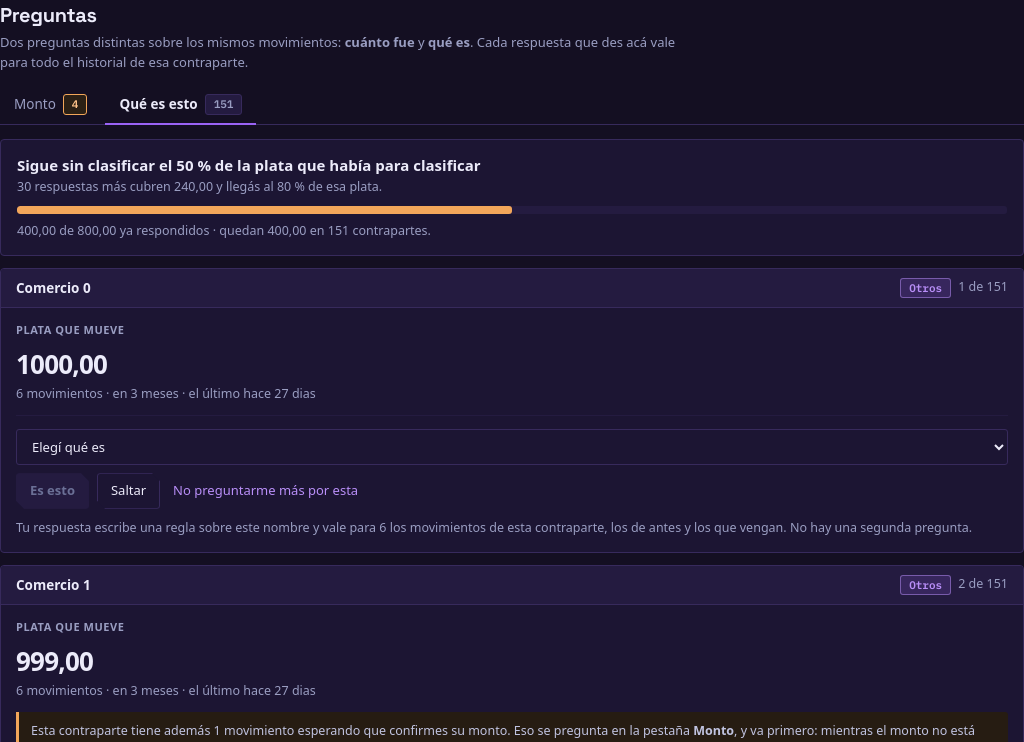
Test case: pestaña 'Qué es esto' — 151 grupos por plata › el rechazo del motor se muestra con su motivo
Select "Salud y medicina" in the dropdown with test id "classify-selector" at (512, 447), box x1=16 y1=429 x2=1008 y2=465
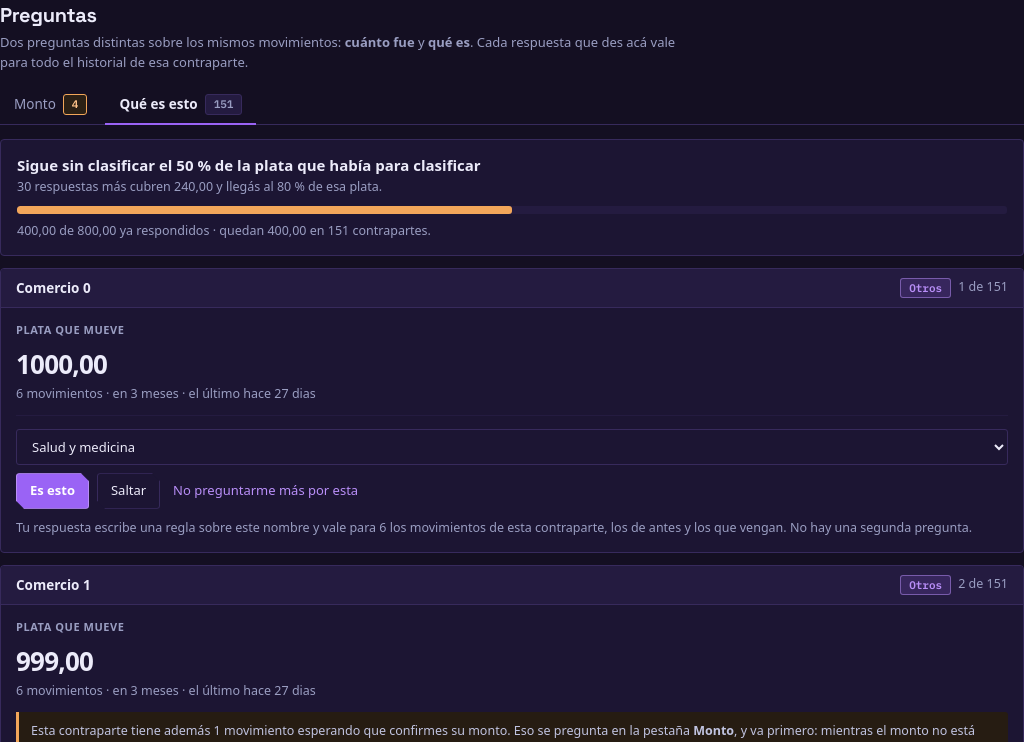
Click the button with test id "classify-responder".
click(52, 491)  # box x1=16 y1=473 x2=89 y2=509
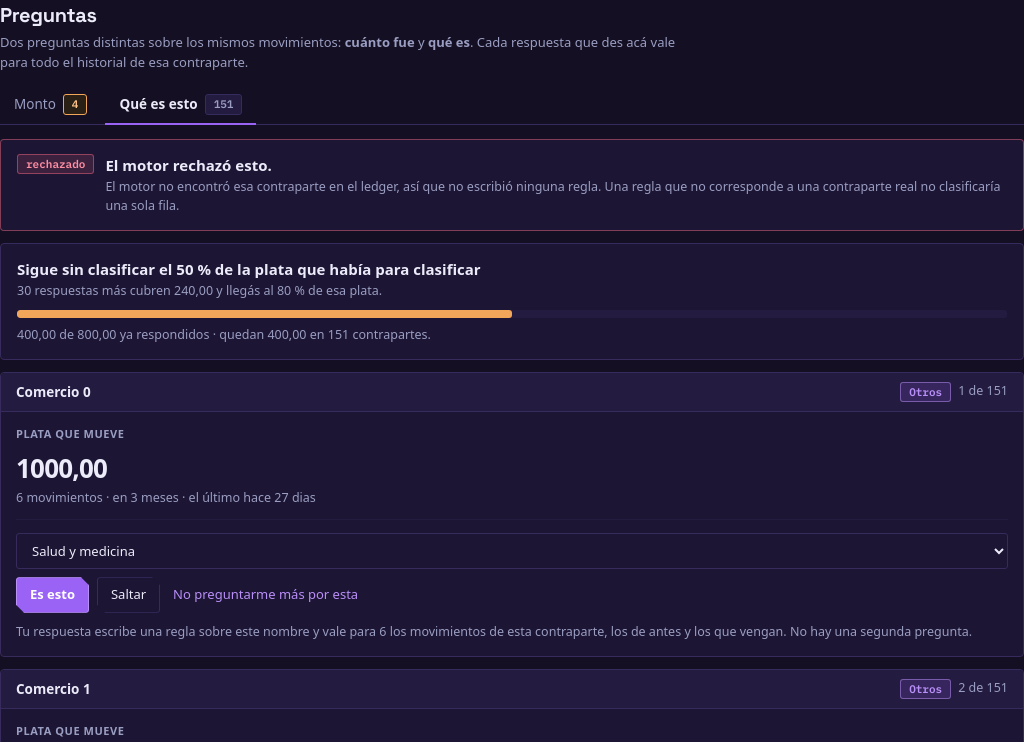
Expected: the element with test id "efecto" shows "no clasificaría una sola fila", x1=105 y1=178 x2=1000 y2=214
